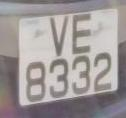2: (91, 45, 115, 98)
3: (47, 56, 73, 103), (68, 53, 94, 98)
8: (22, 56, 52, 105)
E: (69, 9, 95, 57)
V: (46, 13, 71, 60)
